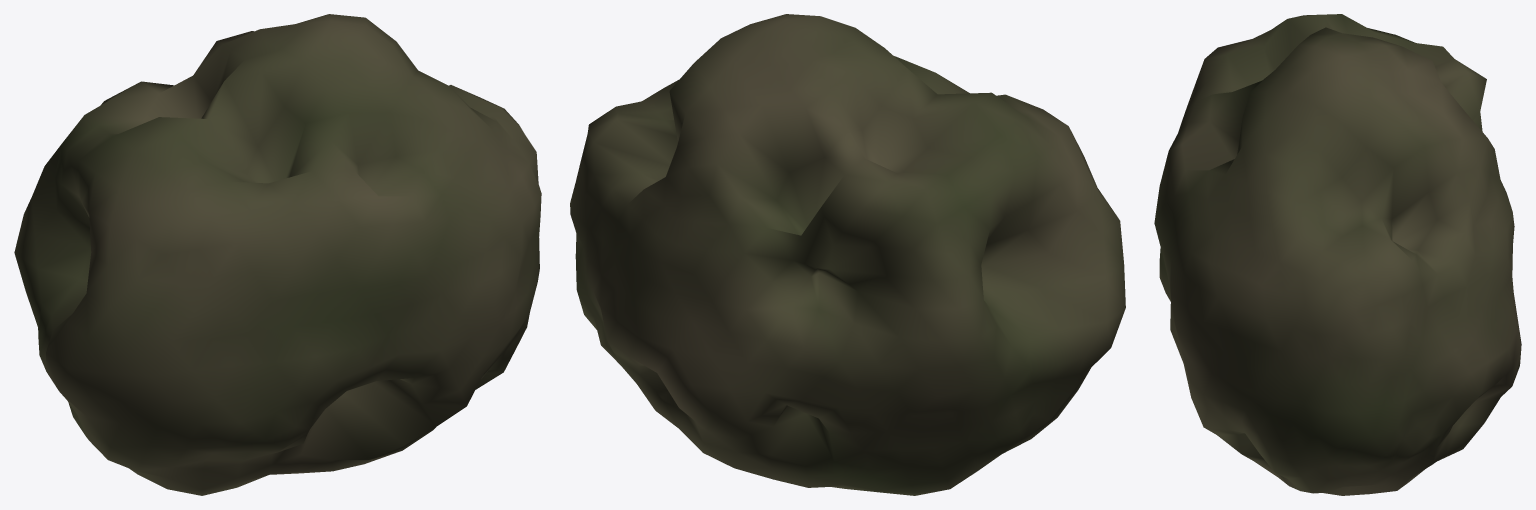
File: asteroid_17.glb
3 views of the same model, side by side, from view 1: azimuth 30°, elevation 25°; view 2: azimuth 150°, elevation 25°; view 3: azimuth 270°, elevation 25° (orthographic). The views are drawn at different scales.
Parts seen in each view (by area): view 1: Asteroid_17; view 2: Asteroid_17; view 3: Asteroid_17.
Part boxes in pixels (x1,y1,x2,y2): Asteroid_17: (14, 14, 541, 495); Asteroid_17: (570, 14, 1125, 495); Asteroid_17: (1154, 14, 1521, 495).
Bounding box in the file's own units: 2.15 × 1.81 × 1.39.
